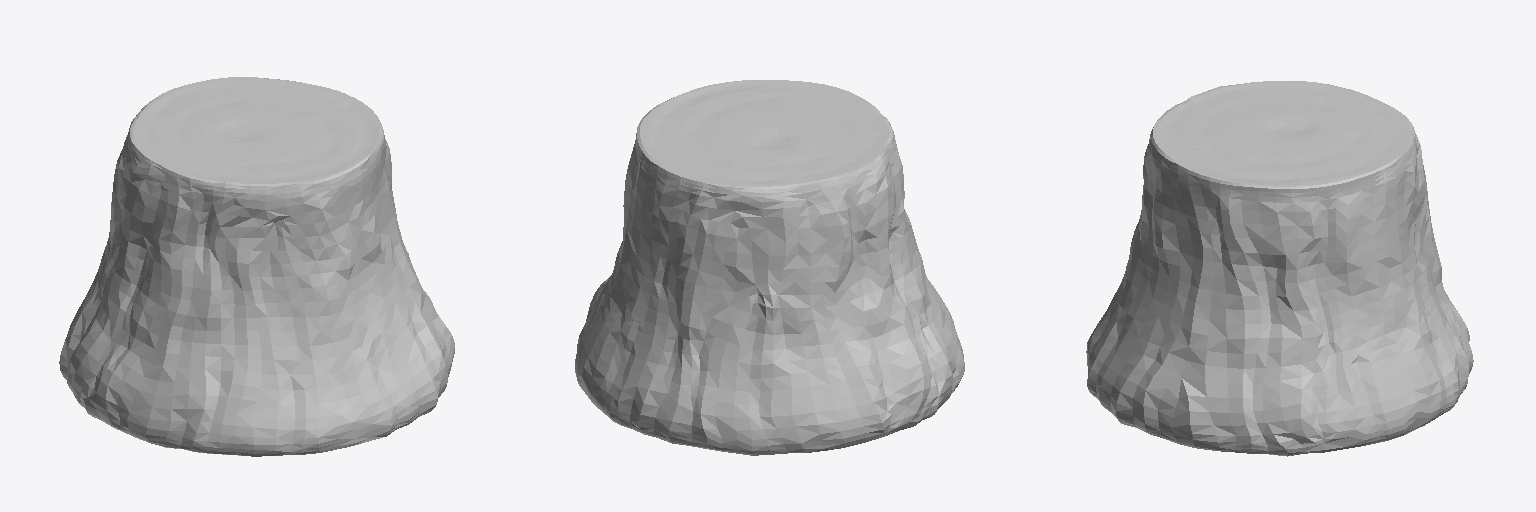
The model's file is tree1.obj.
3 renders of one model, left to right at view 1: azimuth 30°, elevation 25°; view 2: azimuth 150°, elevation 25°; view 3: azimuth 270°, elevation 25°, orthographic.
Visible parts, largest first — view 1: treePM3D_Cylinder3D_3; view 2: treePM3D_Cylinder3D_3; view 3: treePM3D_Cylinder3D_3.
Part boxes in pixels (left/top/right/bottom): treePM3D_Cylinder3D_3: left=59, top=77, right=454, bottom=456; treePM3D_Cylinder3D_3: left=575, top=80, right=964, bottom=455; treePM3D_Cylinder3D_3: left=1086, top=81, right=1473, bottom=456.
Bounding box in the file's own units: 2.06 × 1.43 × 2.03.